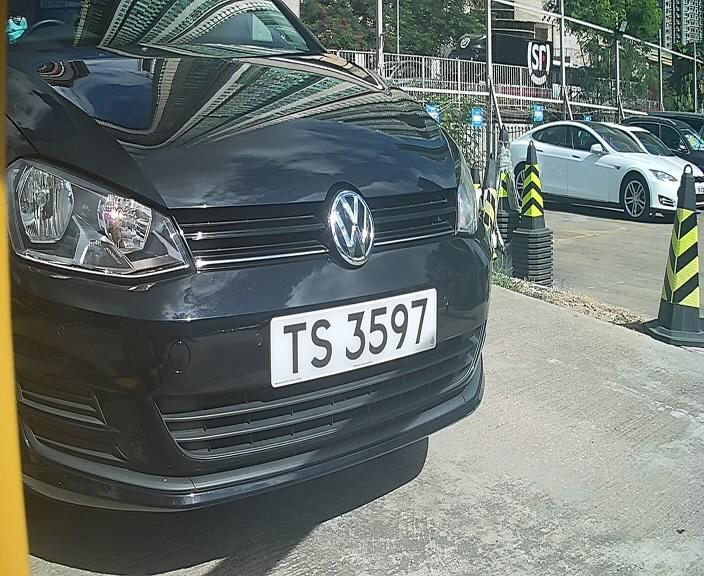License Plate: (277, 283, 434, 384)
